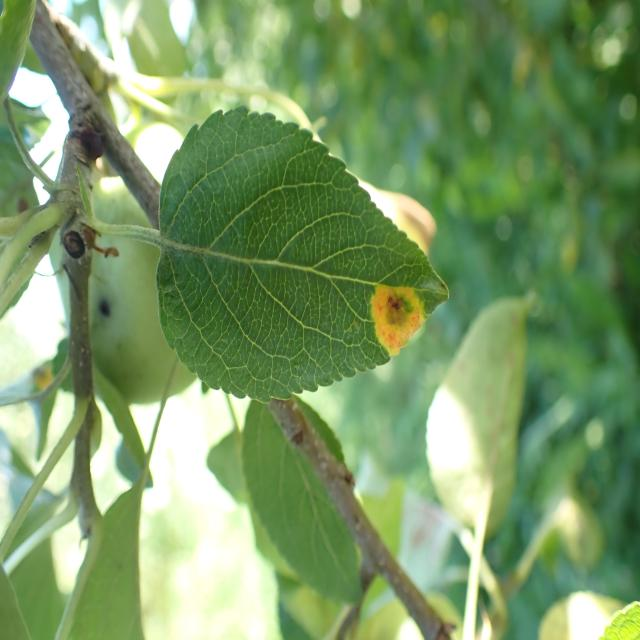rust: (157, 105, 450, 404)
